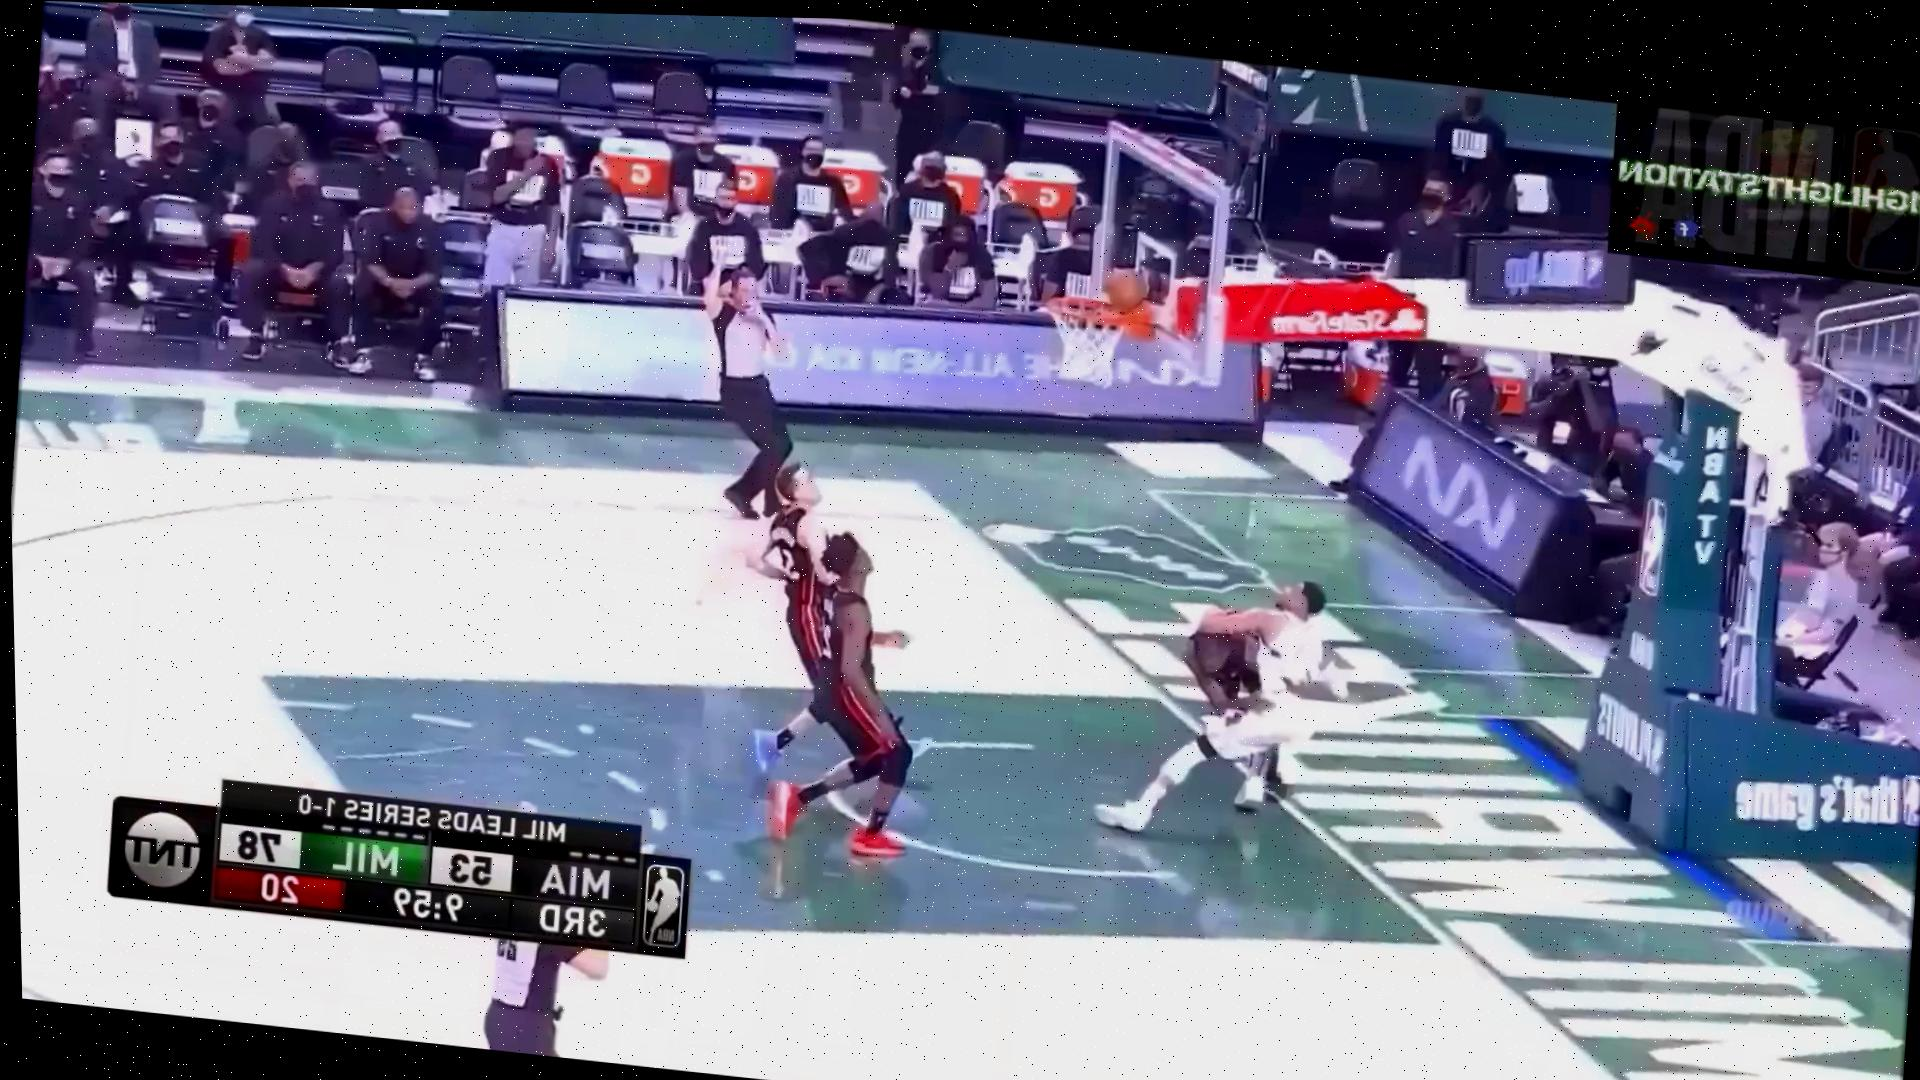foul: (1088, 559, 1357, 853)
